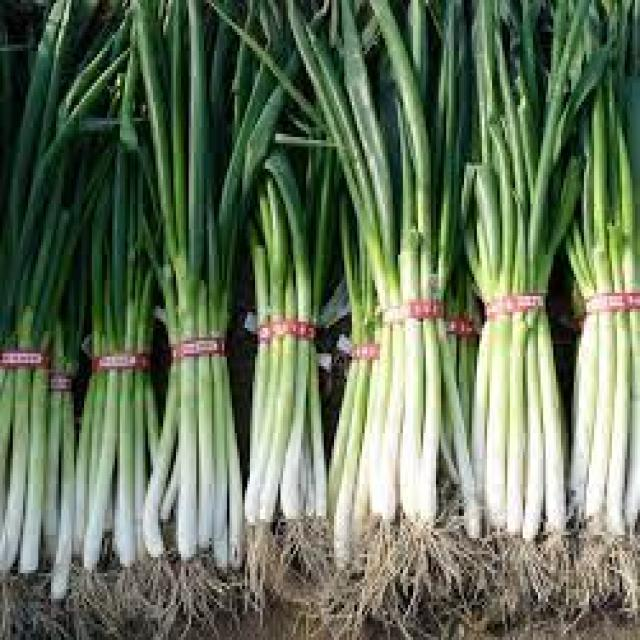spring_onion: (346, 0, 472, 570), (138, 0, 258, 586), (467, 0, 571, 564), (250, 0, 342, 580), (81, 0, 173, 576), (0, 0, 84, 605), (568, 0, 638, 548)
